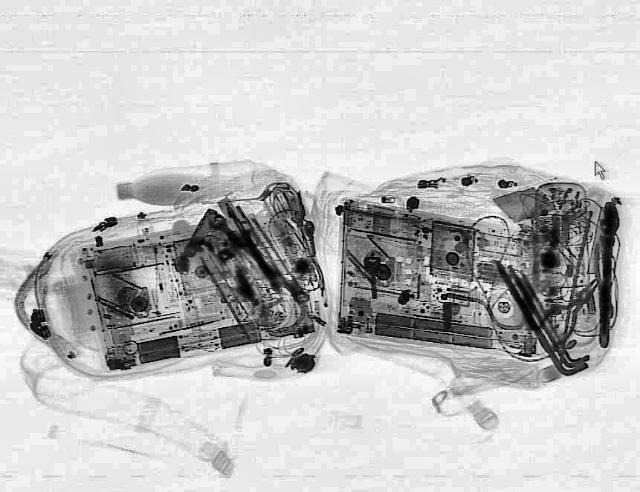Pliers: (524, 271, 616, 349)
Wrench: (202, 210, 316, 307)
